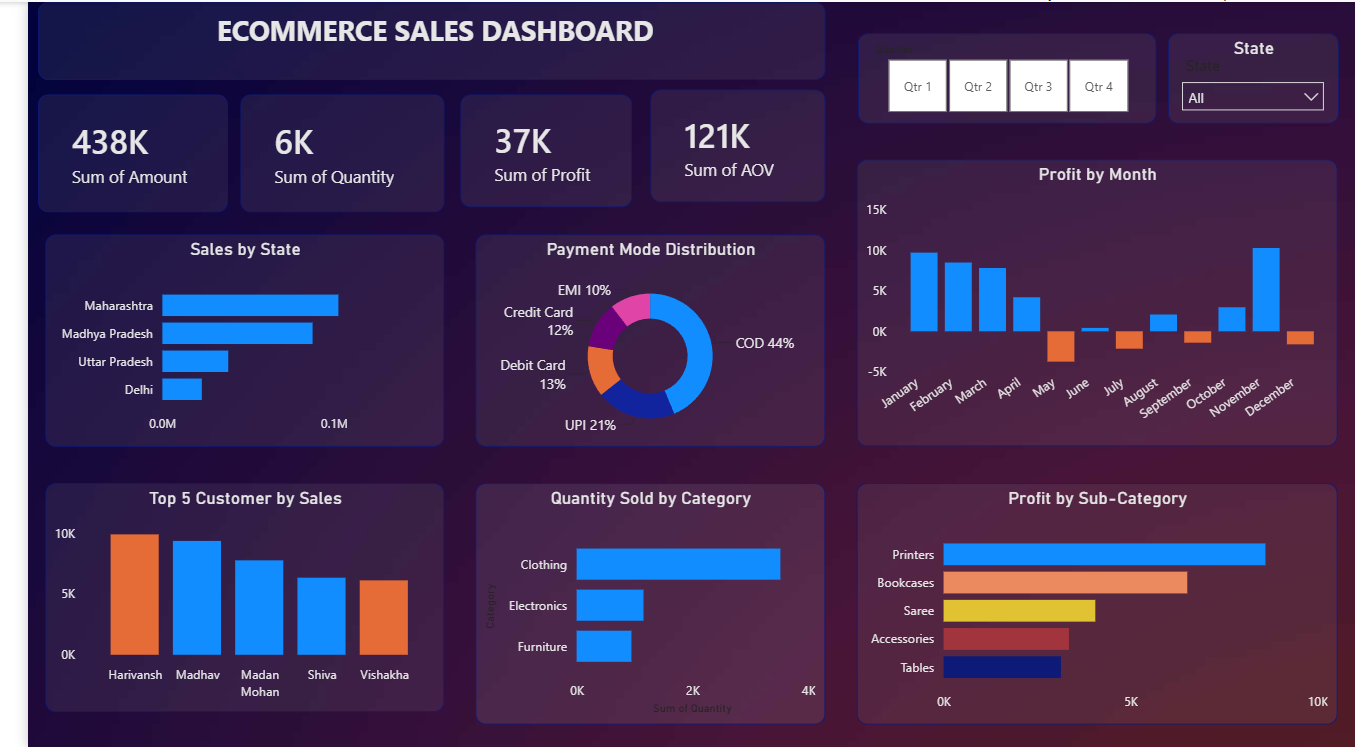

This screenshot's page, from the dashboard's own definition file:
{"tool":"powerbi","page":{"name":"Page 1","canvas":[1280,720],"ordinal":0},"visuals":[{"type":"textbox","box":[9.4,0,759.8,75.3],"z":0},{"type":"columnChart","title":"Profit by Month","fields":{"Y":["Sum(Details.Profit)"],"Category":["Orders.Order Date.Variation.Date Hierarchy.Month"]},"box":[800.2,152,464,277],"z":1000},{"type":"barChart","title":"Profit by Sub-Category","fields":{"Category":["Details.Sub-Category"],"Y":["Sum(Details.Profit)"]},"box":[800.2,464,464,232.7],"z":2000},{"type":"clusteredBarChart","title":"Quantity Sold by Category","fields":{"Category":["Details.Category"],"Y":["Sum(Details.Quantity)"]},"box":[431.7,464,337.6,232.7],"z":3000},{"type":"donutChart","title":" Payment Mode Distribution","fields":{"Y":["Sum(Details.Quantity)"],"Category":["Details.PaymentMode"]},"box":[431.7,224.6,337.6,204.4],"z":4000},{"type":"cardVisual","fields":{"Data":["Sum(Details.Amount)"]},"box":[9.7,89.3,183.3,113.2],"z":5000},{"type":"cardVisual","fields":{"Data":["Sum(Details.Quantity)"]},"box":[204.8,88.9,196.8,113.2],"z":6000},{"type":"cardVisual","fields":{"Data":["Sum(Details.Profit)"]},"box":[417.8,88.9,165.8,109.2],"z":7000},{"type":"cardVisual","fields":{"Data":["Sum(Details.AOV)"]},"box":[601.1,84.9,168.5,109.2],"z":8000},{"type":"barChart","title":"Sales by State","fields":{"Category":["Orders.State"],"Y":["Sum(Details.Amount)"]},"box":[17.5,224.6,384.6,204.4],"z":9000},{"type":"columnChart","title":"Top 5 Customer by Sales","fields":{"Category":["Orders.Name"],"Y":["Sum(Details.Amount)"]},"box":[17.5,464,384.6,220.6],"z":10000},{"type":"slicer","fields":{"Values":["Orders.Order Date.Variation.Date Hierarchy.Quarter"]},"box":[800.5,29.6,288.4,87.6],"z":11000},{"type":"slicer","title":"State","fields":{"Values":["Orders.State"]},"box":[1099.7,29.6,164.4,87.6],"z":12000}]}

Visuals, with their boxes in screenshot pixels (x1, y1, x2, y2), scaled from the page's 1280x720 canvas onto the 1355x747 screenshot:
textbox: bbox=(10, 0, 814, 78)
"Profit by Month" columnChart: bbox=(847, 158, 1338, 445)
"Profit by Sub-Category" barChart: bbox=(847, 481, 1338, 723)
"Quantity Sold by Category" clusteredBarChart: bbox=(457, 481, 814, 723)
" Payment Mode Distribution" donutChart: bbox=(457, 233, 814, 445)
cardVisual - Sum(Details.Amount): bbox=(10, 93, 204, 210)
cardVisual - Sum(Details.Quantity): bbox=(217, 92, 425, 210)
cardVisual - Sum(Details.Profit): bbox=(442, 92, 618, 206)
cardVisual - Sum(Details.AOV): bbox=(636, 88, 815, 201)
"Sales by State" barChart: bbox=(19, 233, 426, 445)
"Top 5 Customer by Sales" columnChart: bbox=(19, 481, 426, 710)
slicer - Orders.Order Date.Variation.Date Hierarchy.Quarter: bbox=(847, 31, 1153, 122)
"State" slicer: bbox=(1164, 31, 1338, 122)
